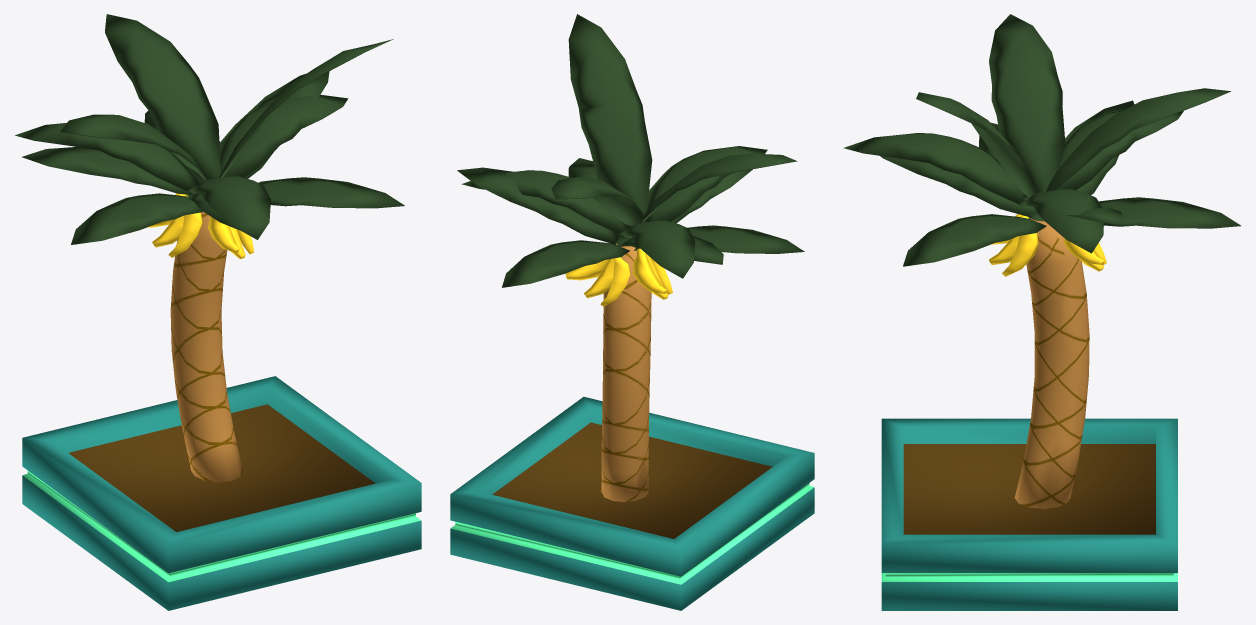
The model's file is dd8bbc4a-201f-4c8c-a4e5-8546b326a1ee.glb.
3 views of the same model, side by side, from view 1: azimuth 30°, elevation 25°; view 2: azimuth 150°, elevation 25°; view 3: azimuth 270°, elevation 25° (orthographic). The views are drawn at different scales.
Parts seen in each view (by area): view 1: BananaPalm; view 2: BananaPalm; view 3: BananaPalm.
Part boxes in pixels (x1,y1,x2,y2): BananaPalm: [15, 14, 421, 610]; BananaPalm: [450, 14, 814, 610]; BananaPalm: [843, 14, 1240, 610].
Size of what is drawn, in the model's own units: 2.74 by 3.99 by 2.84.
2 materials, 2 textured.
